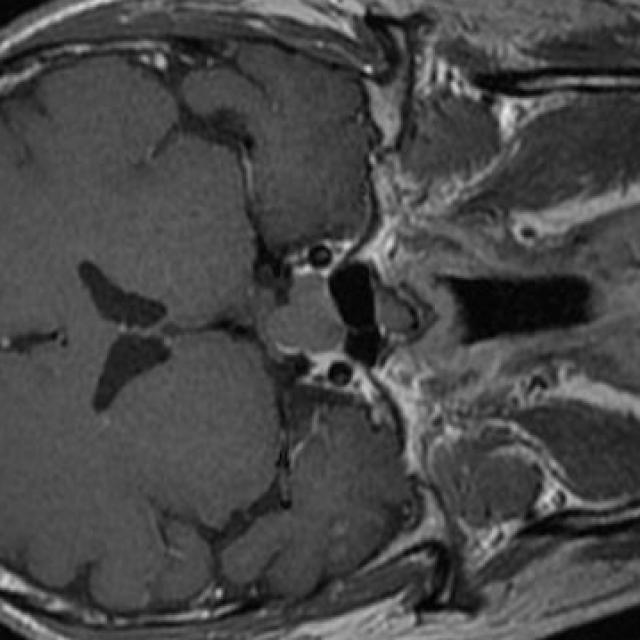pituitary: (264, 278, 346, 357)
